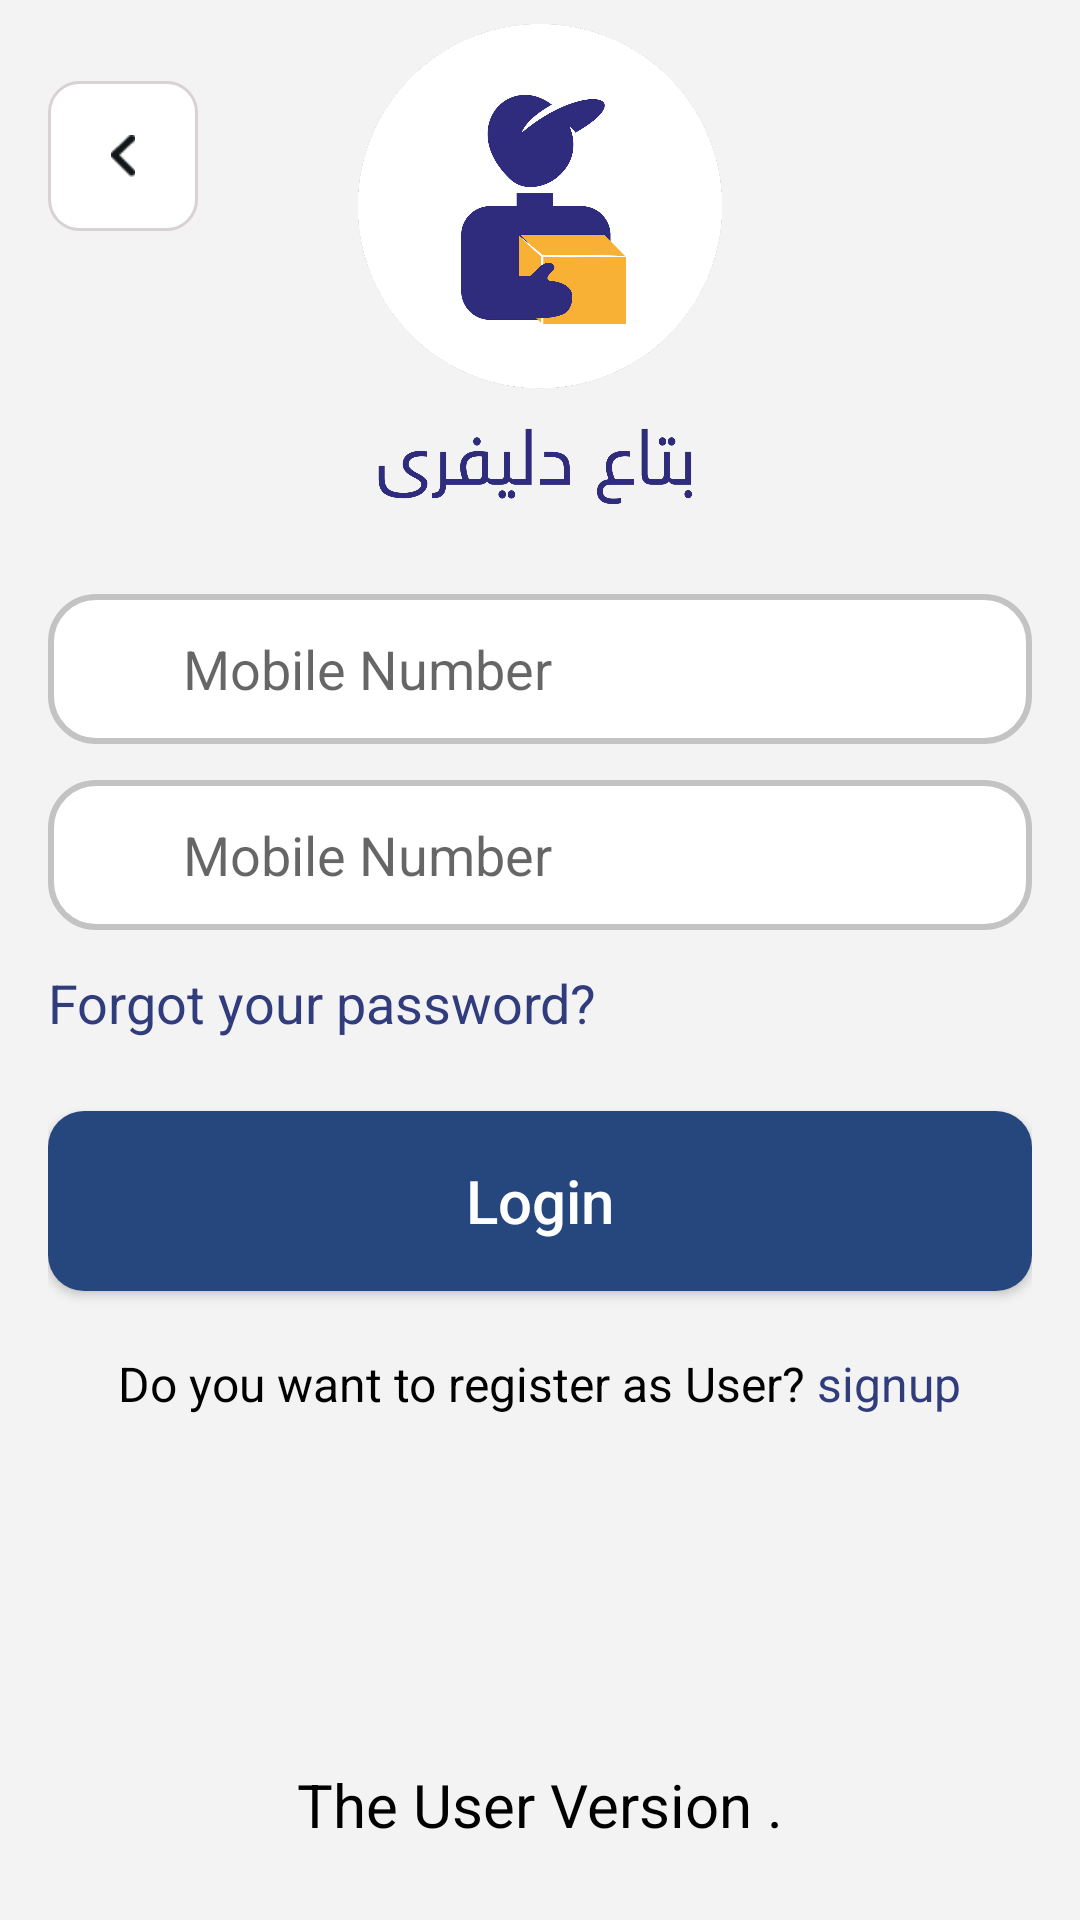

Locate icon controls on the screen. Image size 1080x1920, boxes as box(x1, y1, x2, y2).
back: box(48, 81, 198, 231)
